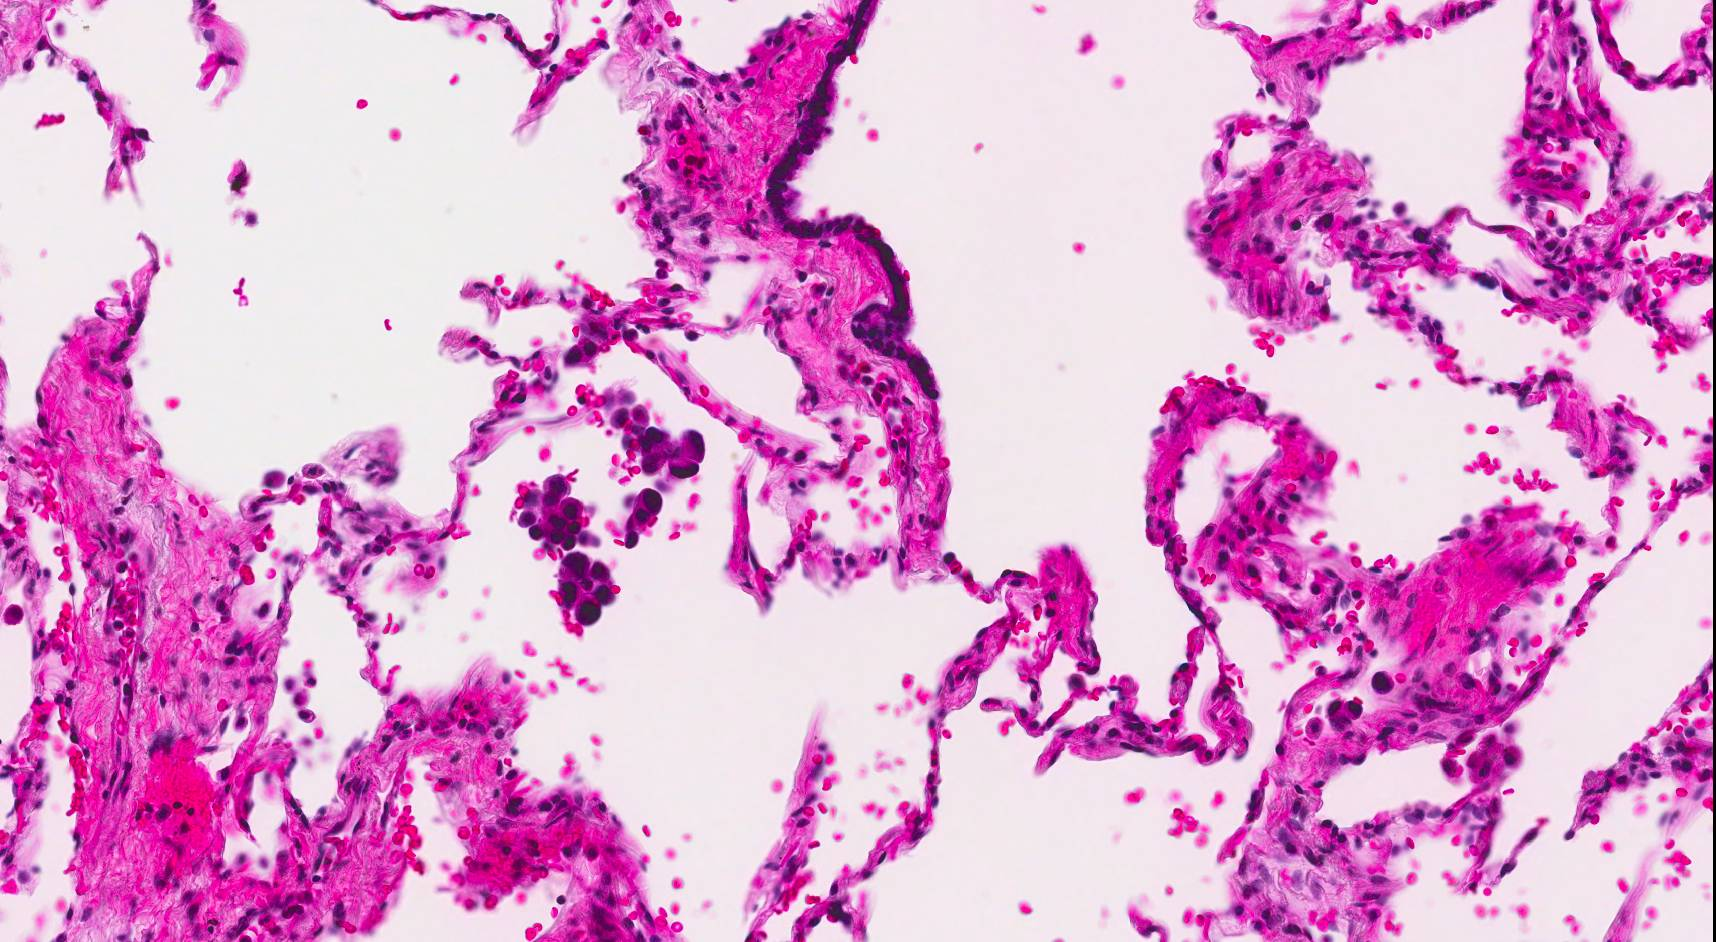stas: (597, 384, 710, 477), (516, 474, 605, 555), (551, 554, 623, 626), (621, 489, 663, 550)
